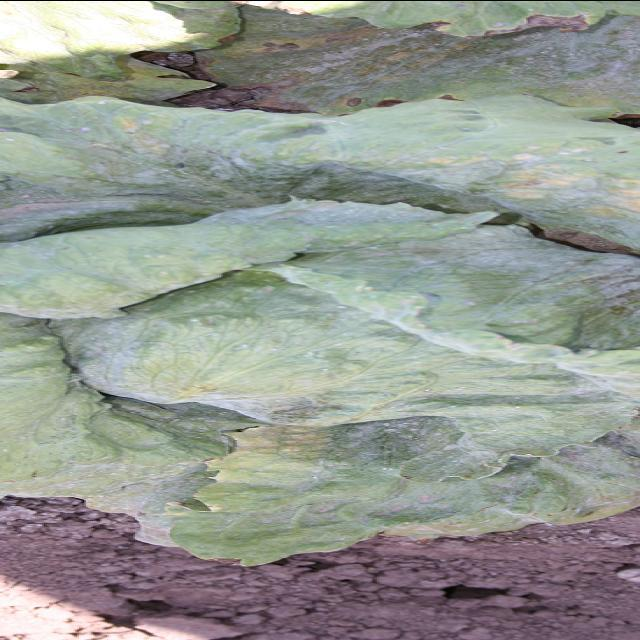Bad: (8, 109, 610, 493)
